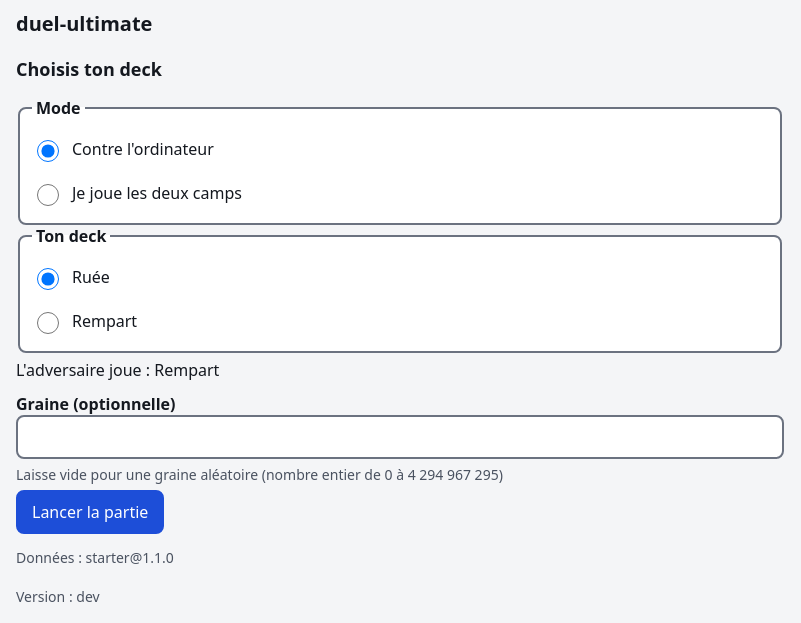
Test: home screen › shows the data version, the decks, the opponent's deck (computer mode by default)
The width and height of the screenshot is (801, 623).
Expected: the text "Données : starter@1.1.0" is shown, [16,548,174,567]
Expected: the text "Version : dev" is shown, [16,587,100,606]
Click the radio button labelled "Rempart" at {"x": 48, "y": 322}, box [37,312,59,334]
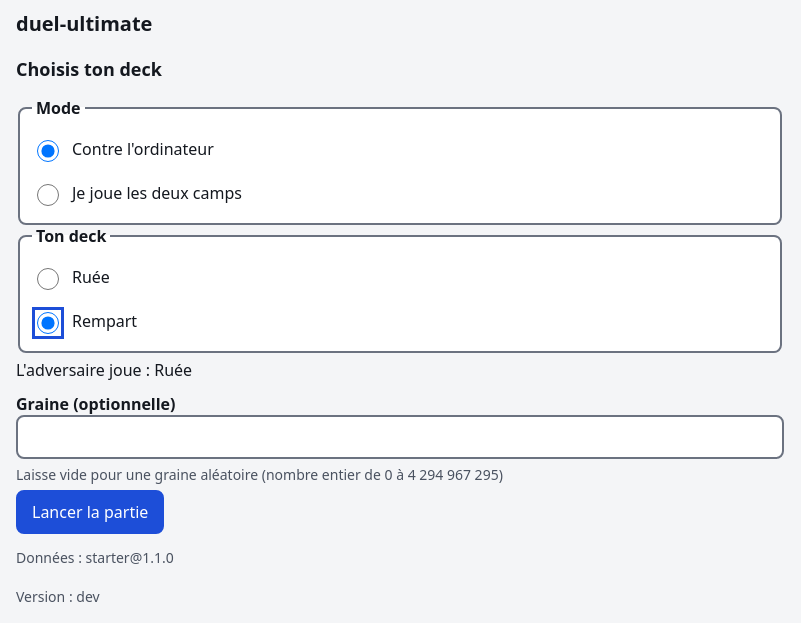
Expected: the text "L'adversaire joue : Ruée" is shown, [16,359,192,381]
